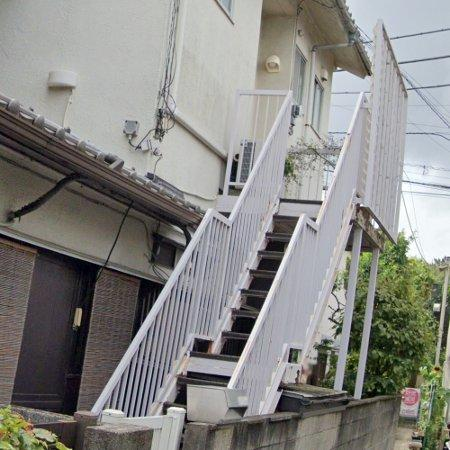stairs: (175, 100, 371, 422)
